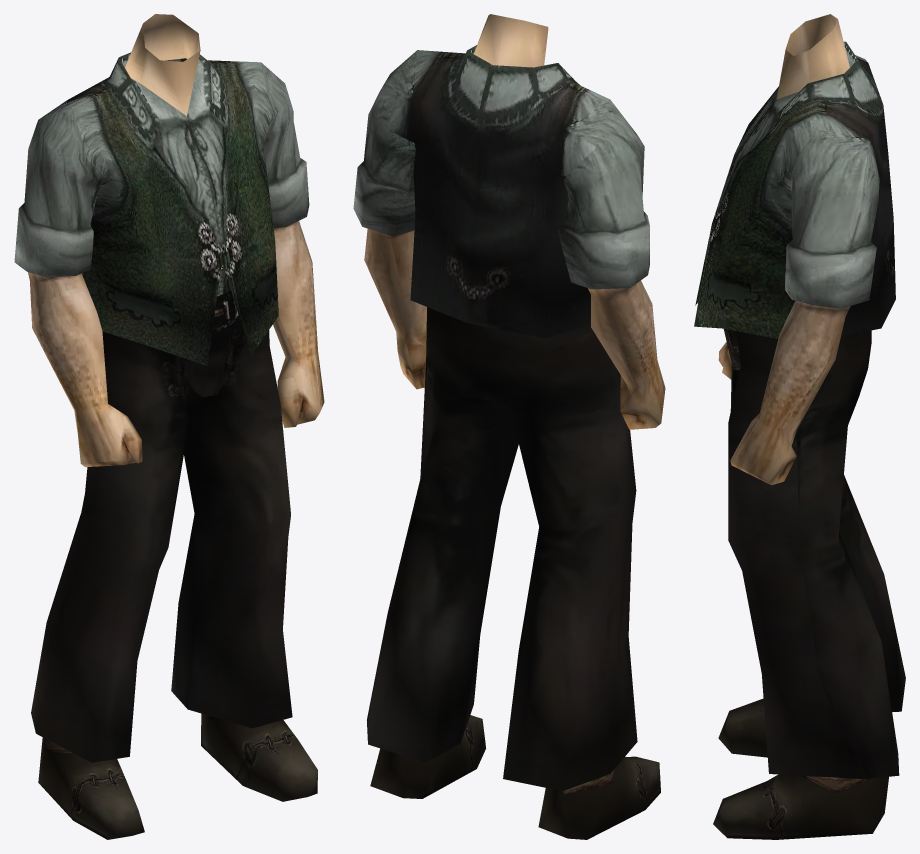
Rendered from ARMOR_BAU_M.glb.
The picture shows the model from 3 angles, left to right: view 1: azimuth 30°, elevation 25°; view 2: azimuth 150°, elevation 25°; view 3: azimuth 270°, elevation 25°; orthographic projection. The views are drawn at different scales.
Parts seen in each view (by area): view 1: ARMOR_BAU_M; view 2: ARMOR_BAU_M; view 3: ARMOR_BAU_M.
Part boxes in pixels (x1,y1,x2,y2): ARMOR_BAU_M: (14,14,324,839); ARMOR_BAU_M: (353,14,665,839); ARMOR_BAU_M: (694,14,905,839).
Bounding box in the file's own units: 0.6416 × 1.69 × 0.4237.
Materials: 2 (2 with a texture image).
